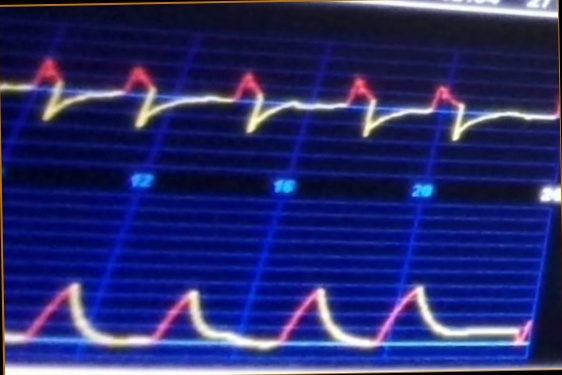Accumulation Flow: (3, 46, 558, 164)
Volume: (4, 262, 528, 358)
